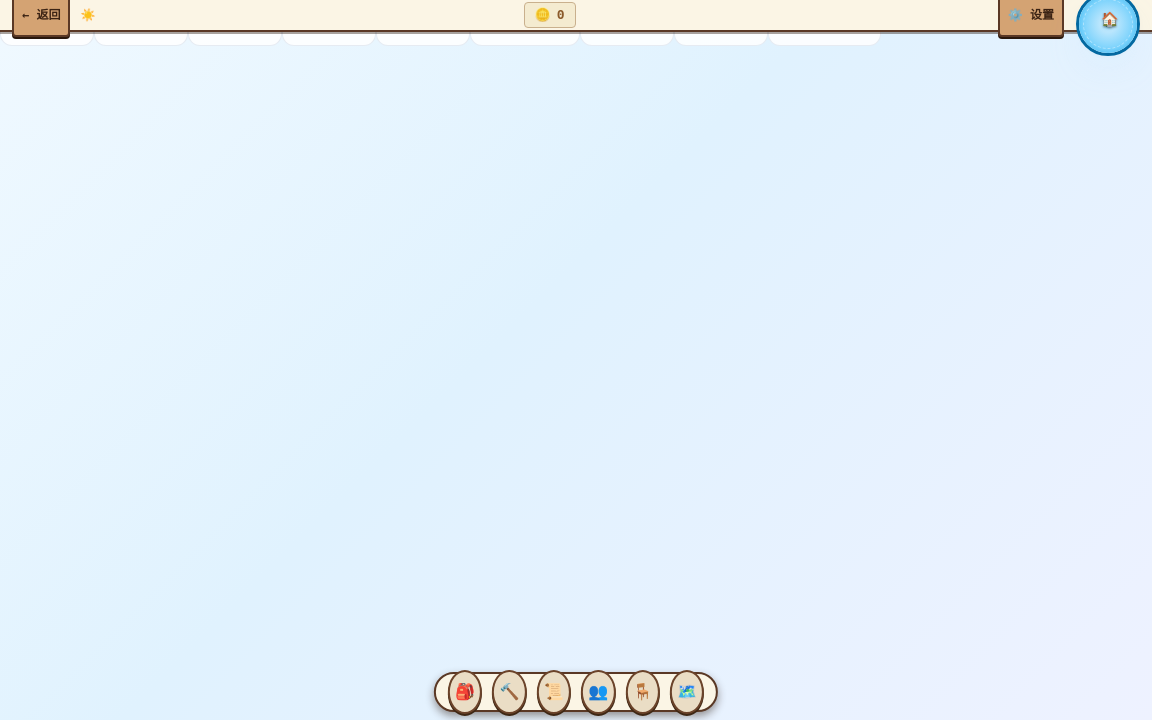
Test: A6 · UI 像素化重构 (CabinHud) › 点击背包展开背包弹窗，点击关闭按钮关闭弹窗
What coordinates should you click on to do the following:
click the button with test id "hud-btn-backpack"
I would click on:
 (465, 692)
Its box is [448,670,482,714].
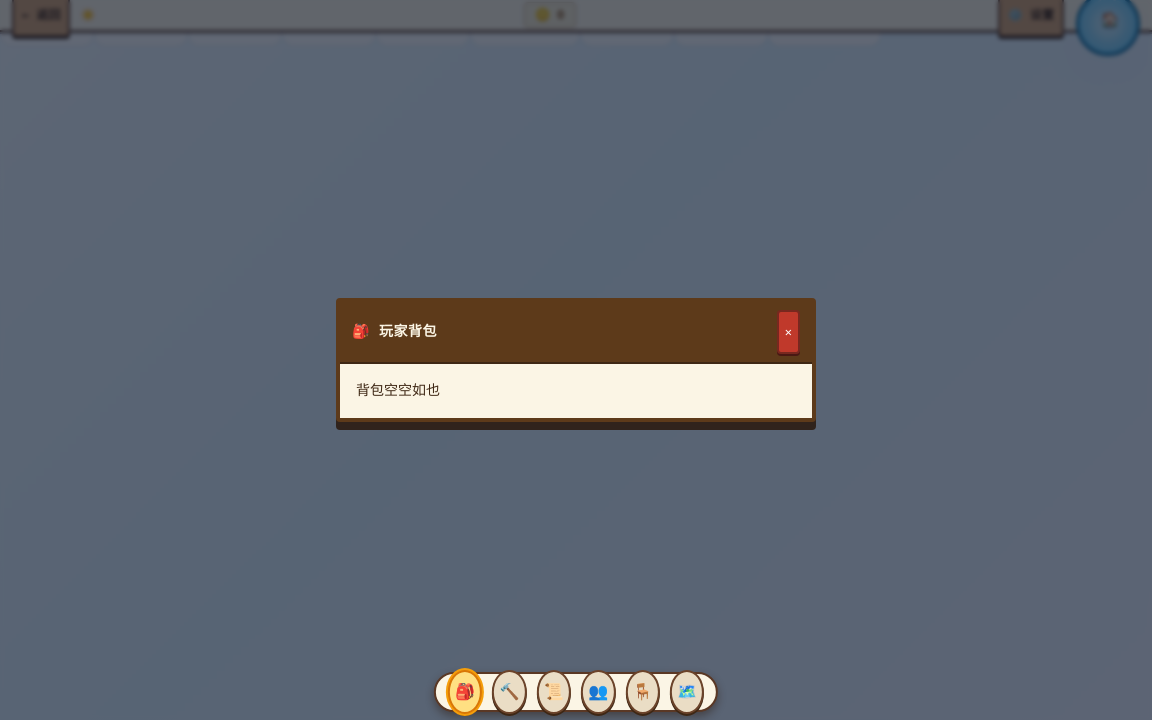
Check: the dialog with test id "pixel-modal-backpack" is shown, box [336,298,816,422]
Check: the heading "🎒 玩家背包" is shown, box [352,321,437,343]
What coordinates should you click on to do the following:
click the button with test id "pixel-modal-close"
I would click on:
 (788, 332)
Its box is [777,310,800,354].
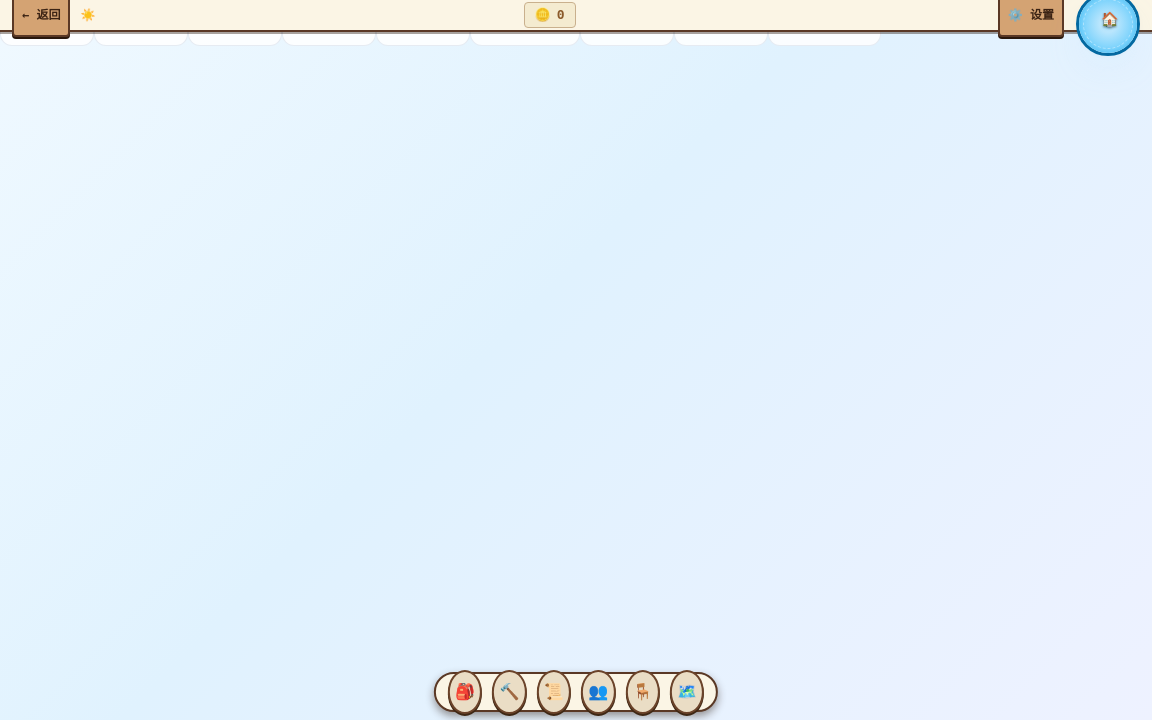
Check: the dialog with test id "pixel-modal-backpack" is gone
